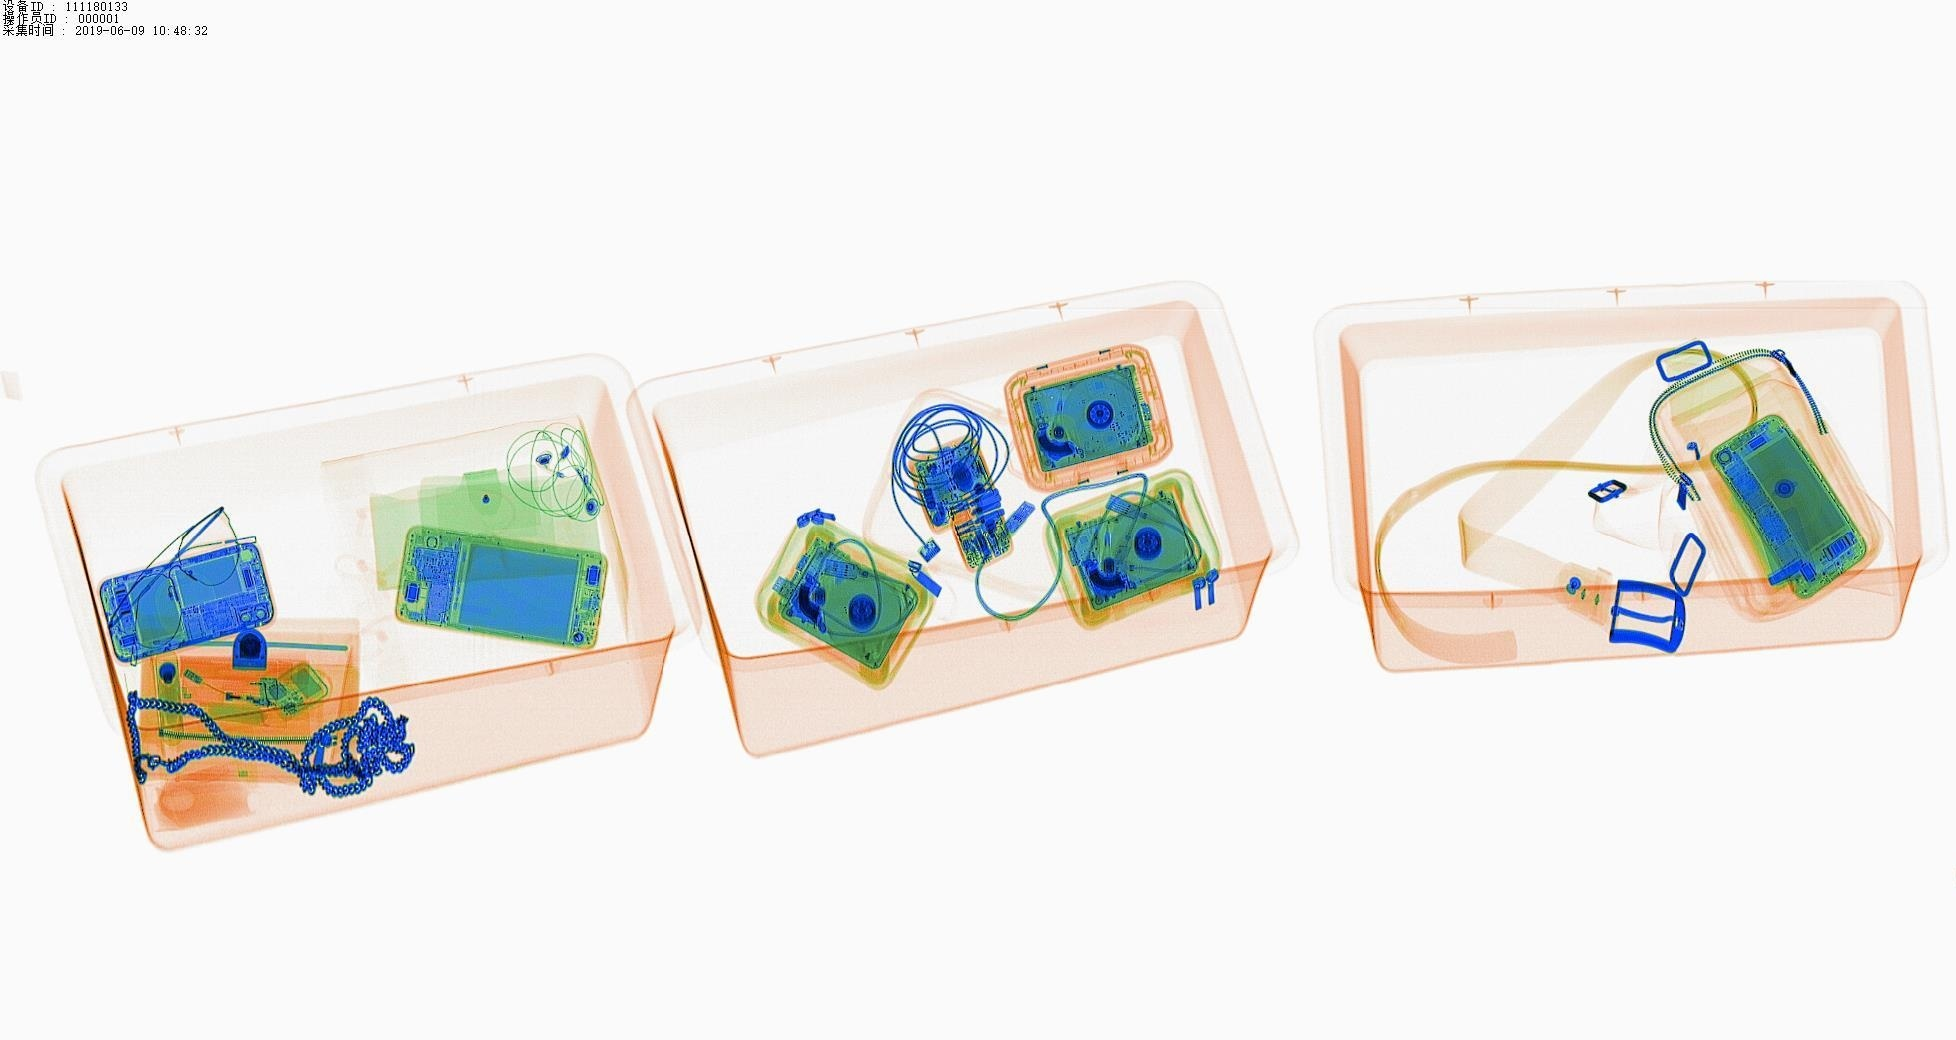NonmetallicFire: (191, 665, 307, 709)
